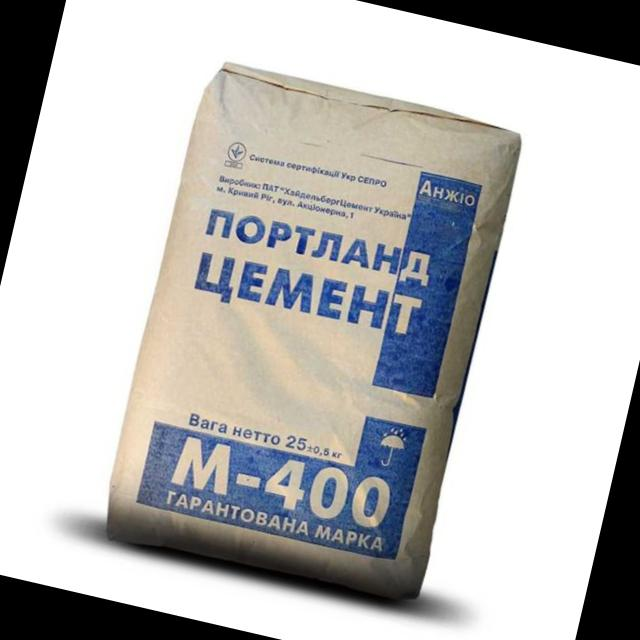KantongSemen: (94, 54, 528, 611)
